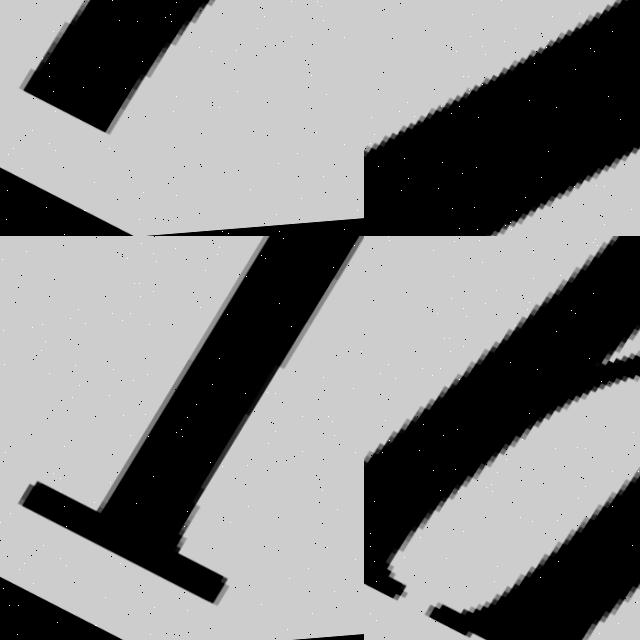1: (12, 236, 364, 623)
7: (0, 0, 364, 236)
H: (364, 236, 640, 605)
Z: (364, 0, 640, 236)
